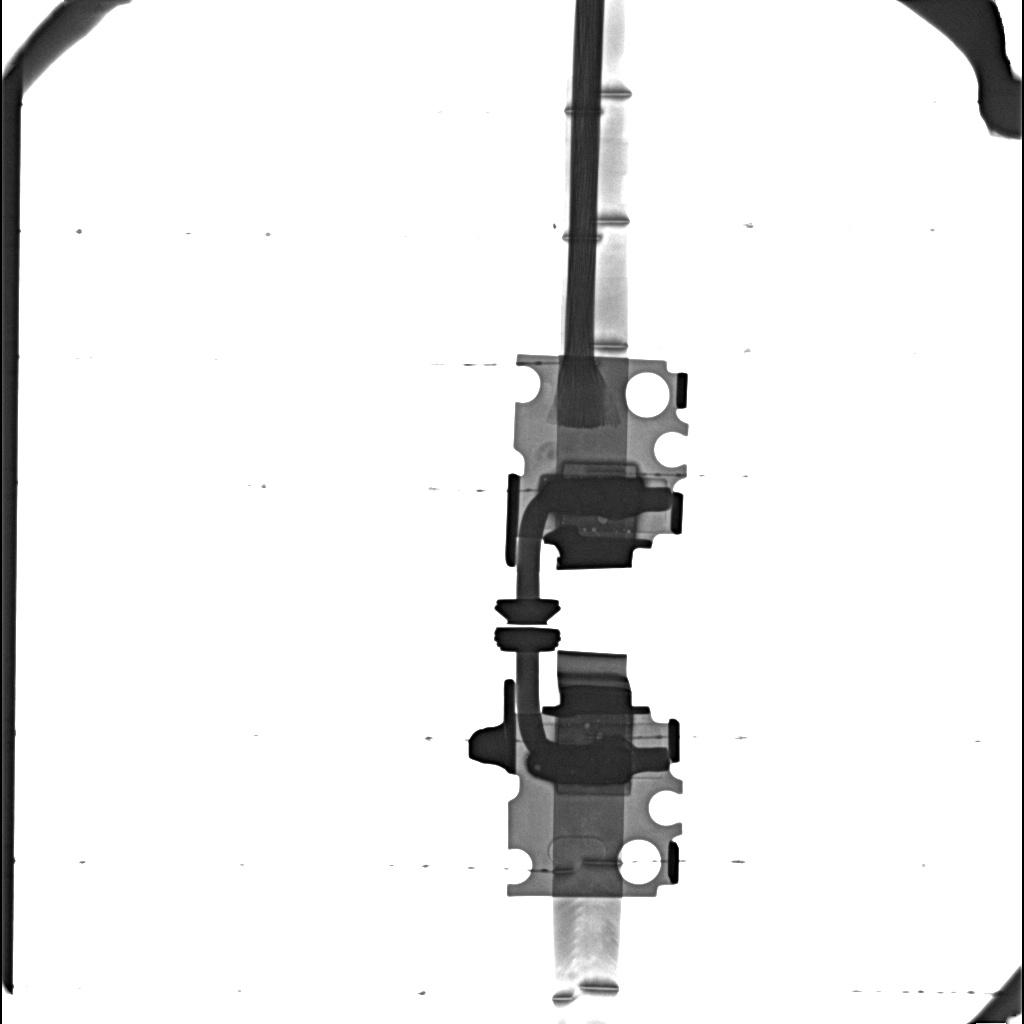气孔: (560, 460, 638, 477), (556, 782, 631, 796)
气泡: (598, 517, 607, 523), (584, 723, 590, 728)
水纹: (528, 734, 632, 783), (540, 477, 642, 516)
